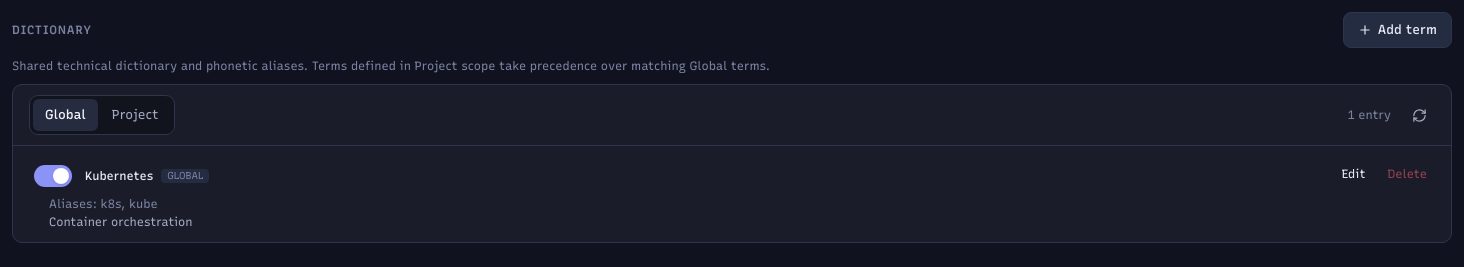
Test: DictationDictionary (Modernized CRUD) › deletes a dictionary term via dictionaryDelete
Expected: the text "Kubernetes" is shown, [85, 168, 153, 184]
What coordinates should you click on to do the following:
click the button "Delete"
I would click on:
 (1407, 174)
Its box is [1380, 158, 1435, 190].
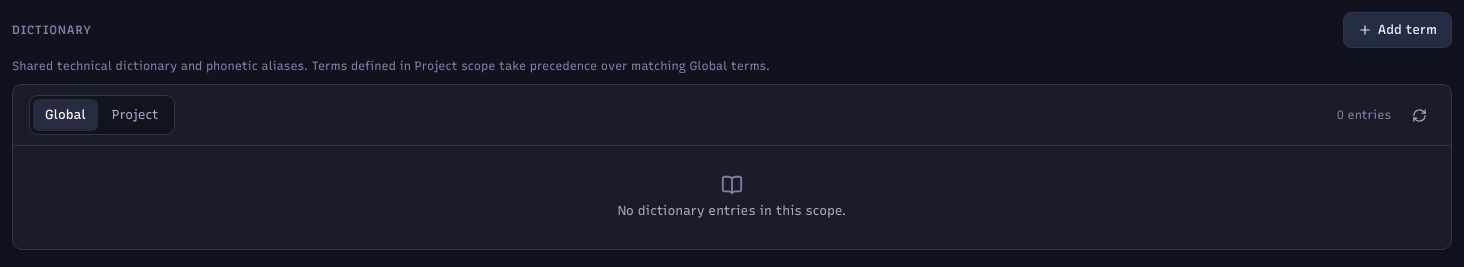
Expected: the text "Kubernetes" is gone
